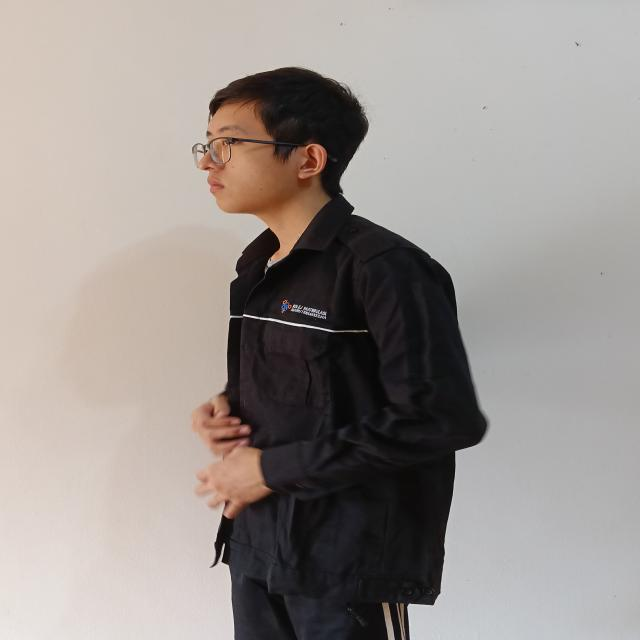person_with_labcoat: (192, 69, 486, 640)
